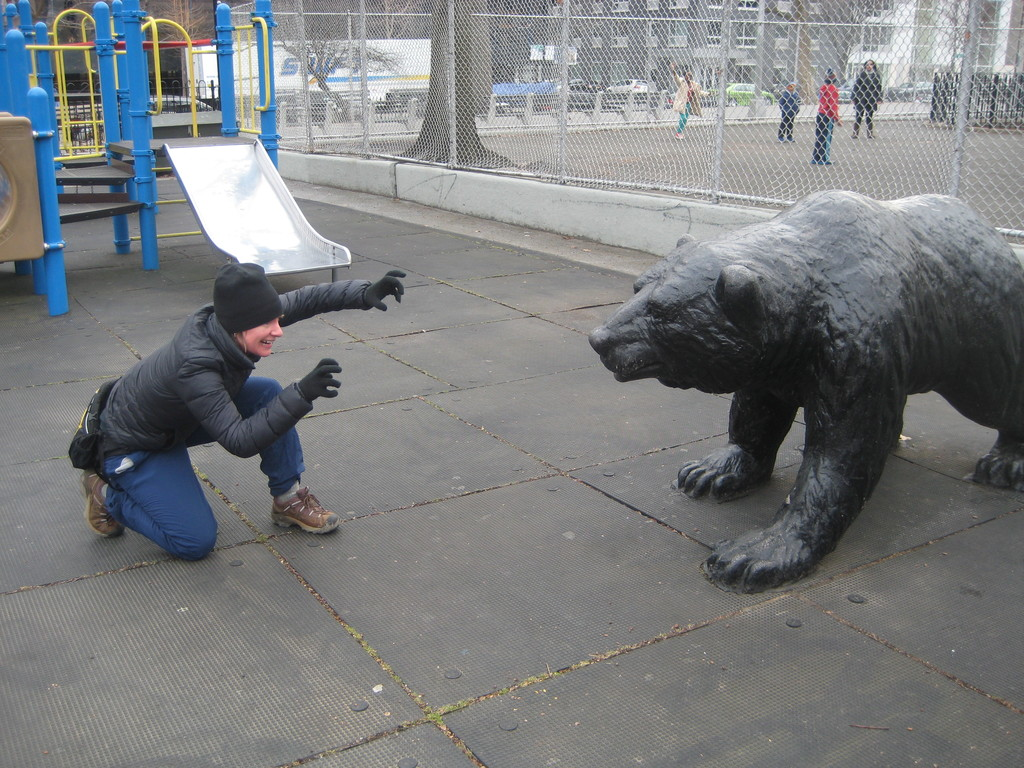person: (50, 220, 420, 580)
